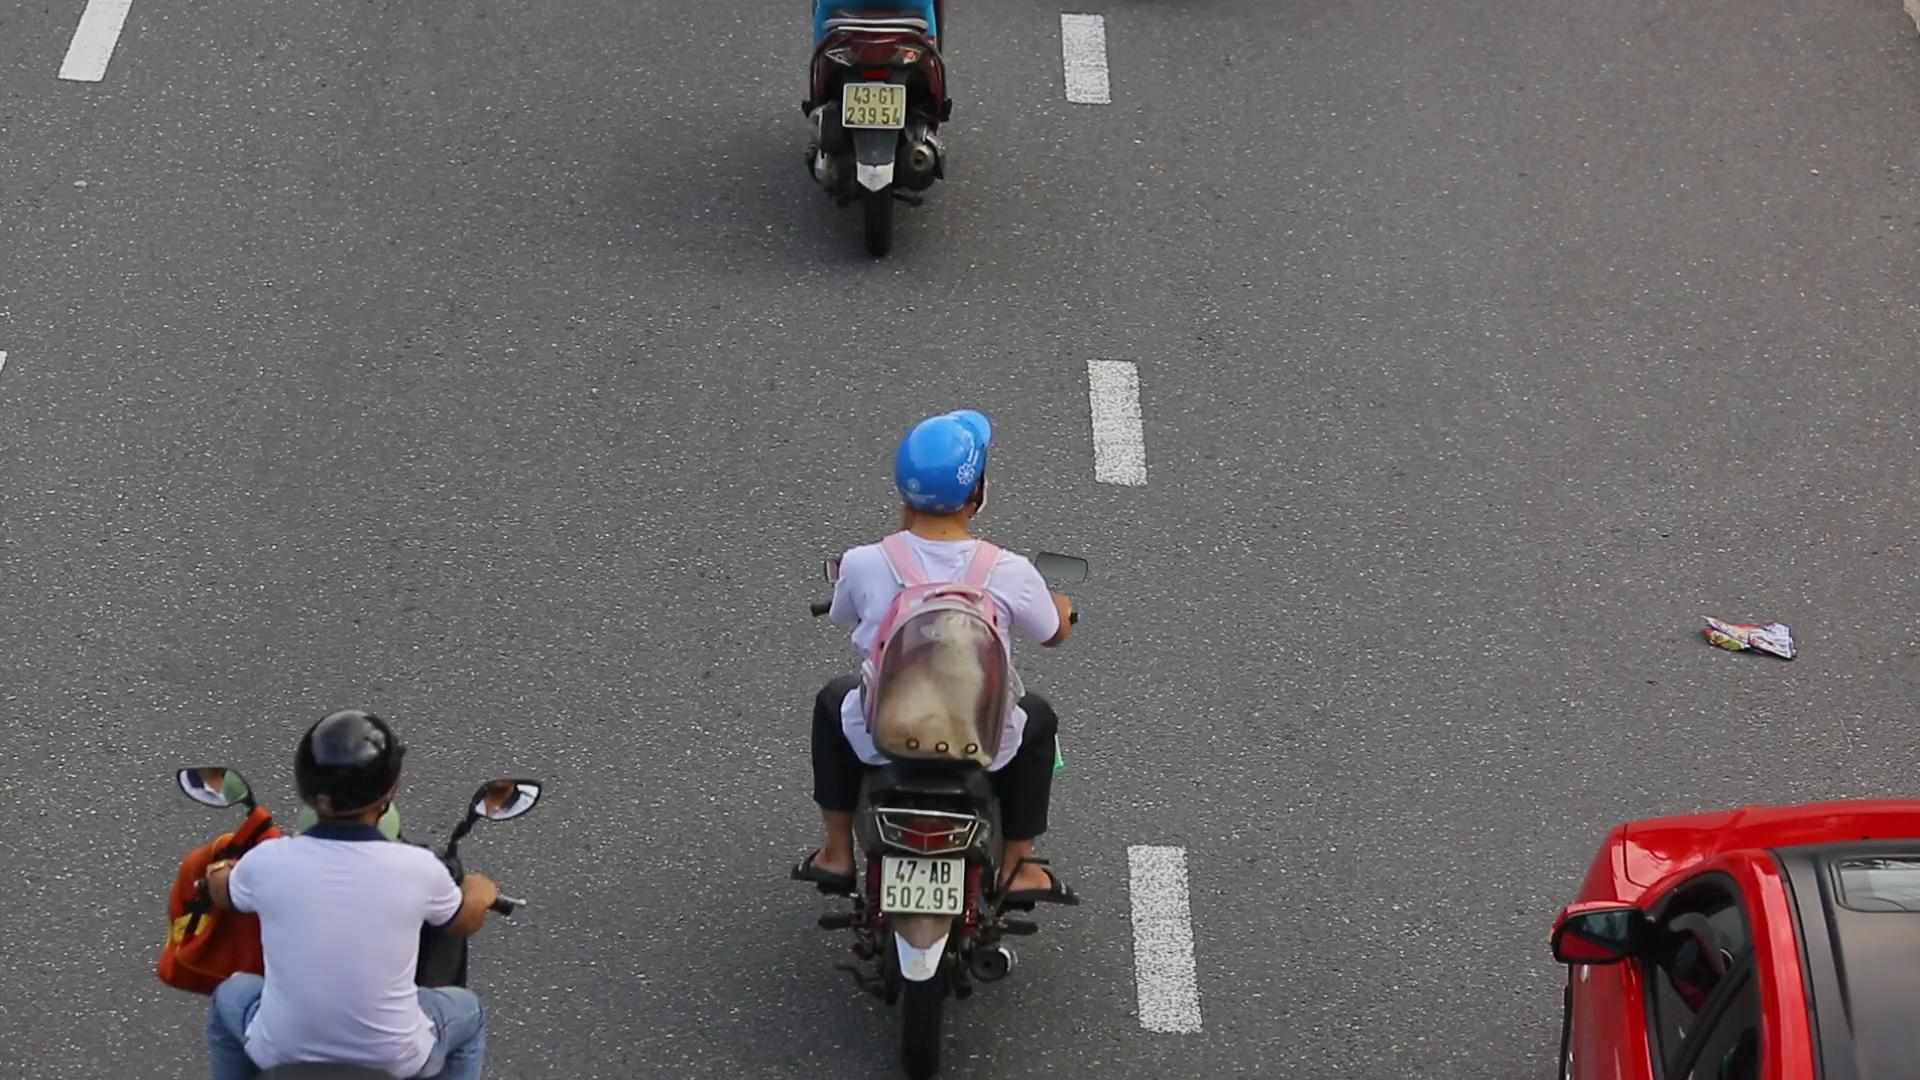motobike: (769, 393, 1101, 1080)
